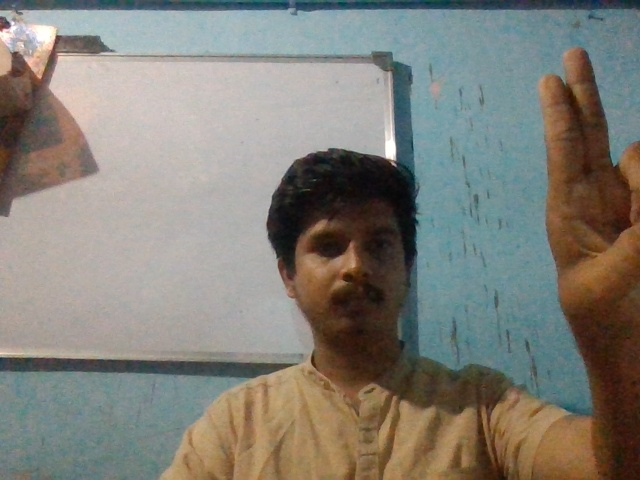Prana: (517, 38, 640, 330)
